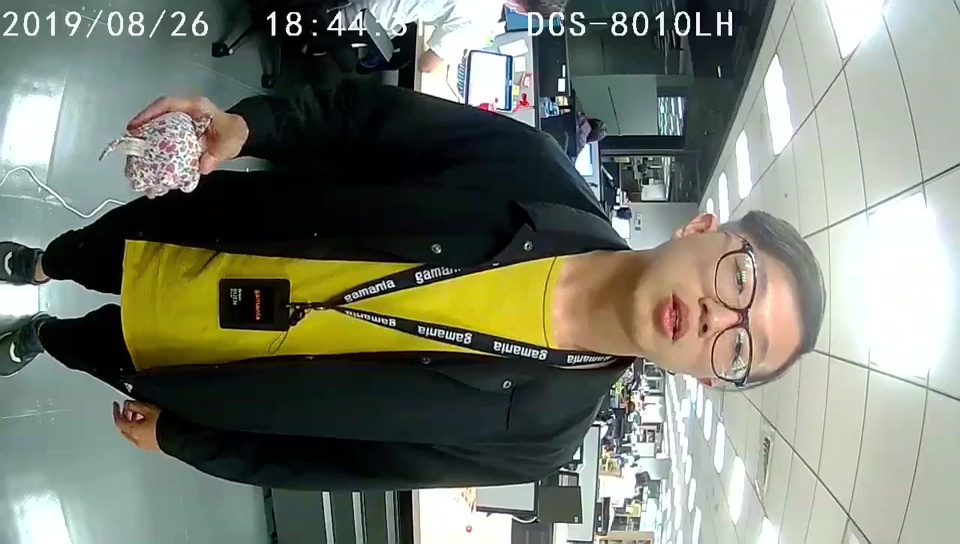pig: (125, 113, 214, 198)
